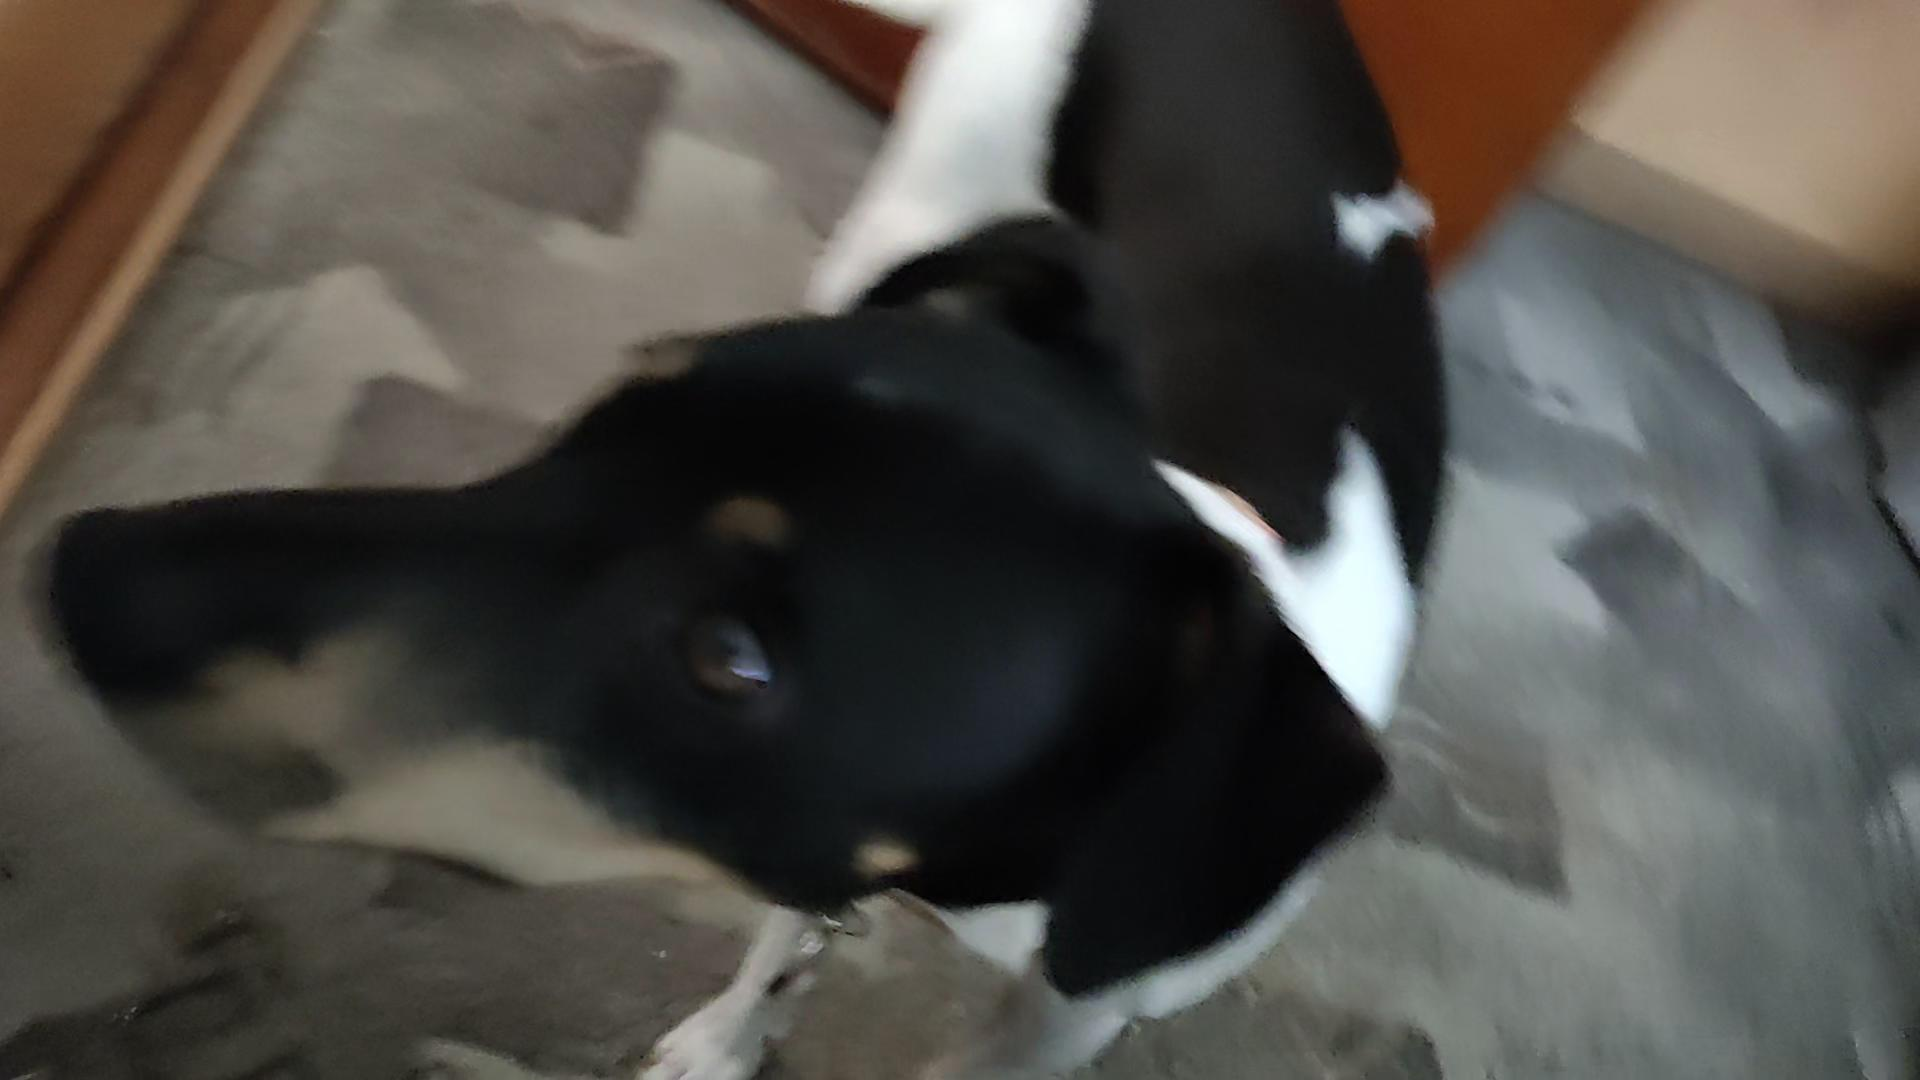Dog: (11, 0, 1465, 1079)
